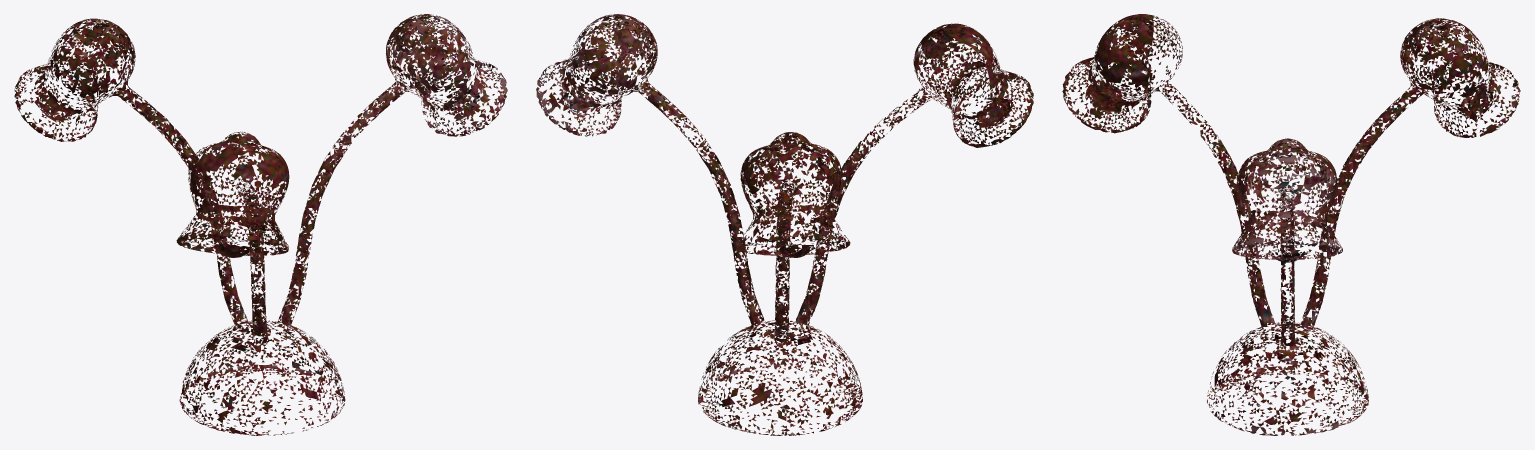
Rendered from lamp_final900.obj.
3 renders of one model, left to right at view 1: azimuth 30°, elevation 25°; view 2: azimuth 150°, elevation 25°; view 3: azimuth 270°, elevation 25°, orthographic.
Size of the model in its own units: 1.59 by 1.32 by 1.62.
